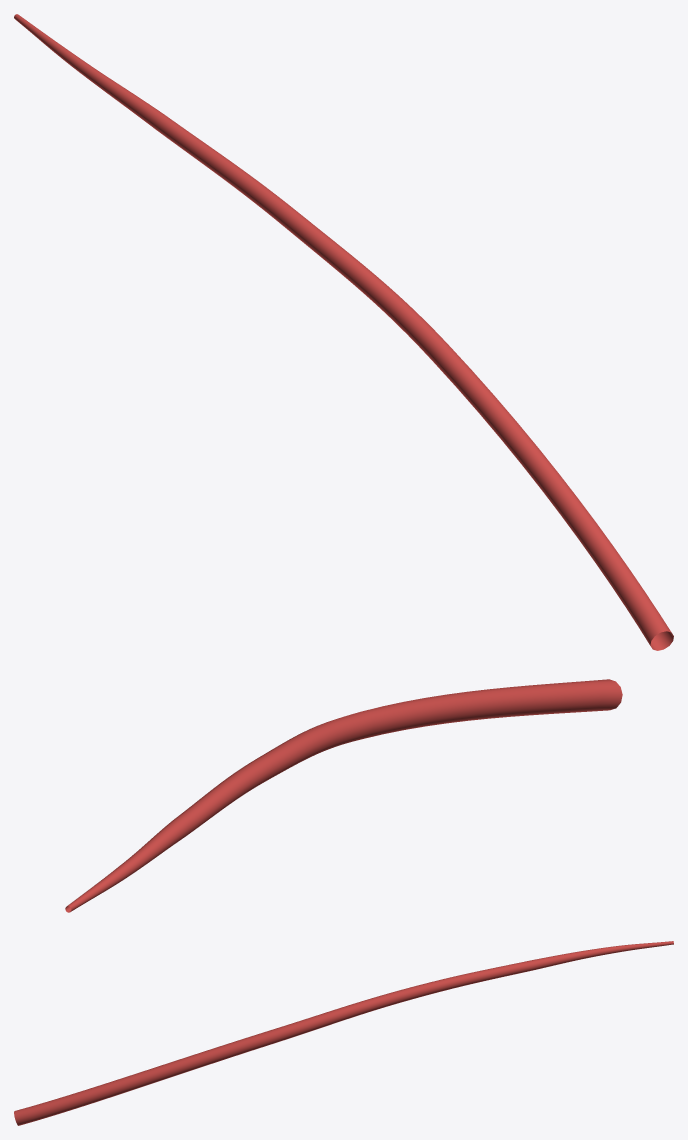
3 renders of one model, top to bottom at view 1: azimuth 30°, elevation 25°; view 2: azimuth 150°, elevation 25°; view 3: azimuth 270°, elevation 25°, orthographic. The views are drawn at different scales.
Parts seen in each view (by area): view 1: 右侧胸背动脉; view 2: 右侧胸背动脉; view 3: 右侧胸背动脉.
Boxes of the visible parts, x1,y1,x2,y2 form: 右侧胸背动脉: [14, 14, 673, 650]; 右侧胸背动脉: [65, 679, 622, 912]; 右侧胸背动脉: [14, 941, 673, 1125].
Bounding box in the file's own units: 0.0135 × 0.0292 × 0.1124.
